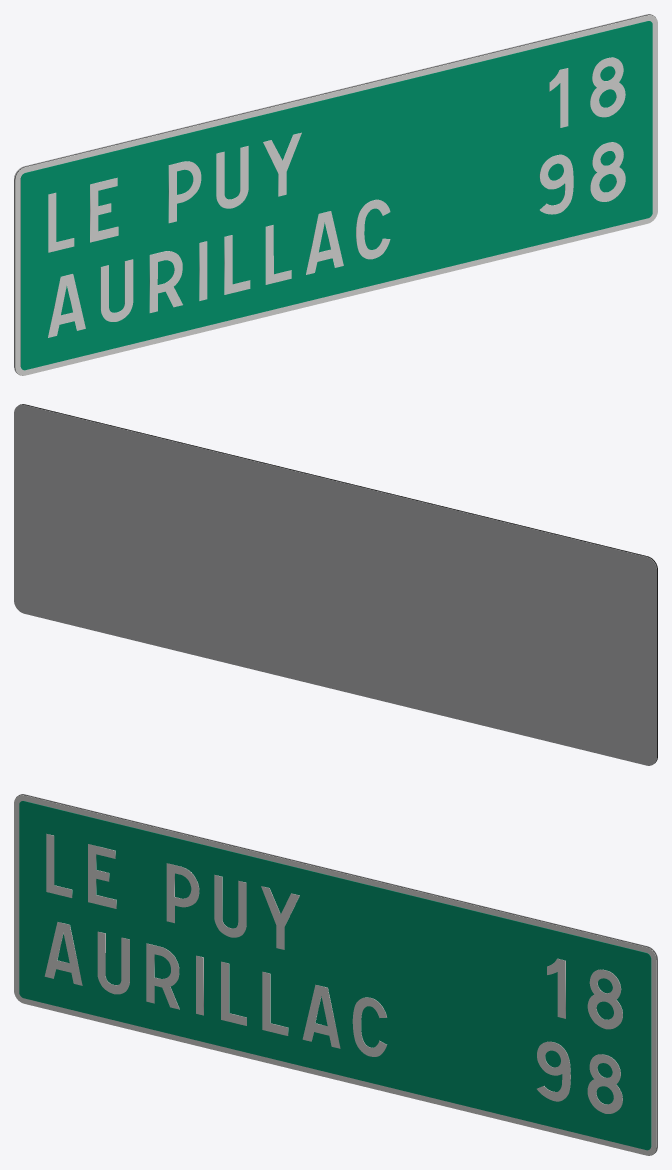
The picture shows the model from 3 angles, top to bottom: view 1: azimuth 30°, elevation 25°; view 2: azimuth 150°, elevation 25°; view 3: azimuth 330°, elevation 25°; orthographic projection.
Visible parts, largest first — view 1: D61_p02, D61_p01, D61_p06, D61_p03, D61_p05, D61_p04, D61_dos, D61_p00; view 2: D61_dos, D61_p00; view 3: D61_p02, D61_p01, D61_p06, D61_p03, D61_p05, D61_p04, D61_dos, D61_p00.
Boxes of the visible parts, x1,y1,x2,y2 form: D61_p02: [20, 21, 652, 370]; D61_p01: [15, 15, 657, 375]; D61_p06: [48, 199, 390, 337]; D61_p03: [48, 132, 301, 252]; D61_p05: [539, 142, 625, 214]; D61_p04: [549, 57, 625, 127]; D61_dos: [14, 14, 651, 372]; D61_p00: [14, 14, 655, 374]; D61_dos: [14, 404, 656, 765]; D61_p00: [20, 404, 657, 762]; D61_p02: [19, 801, 651, 1150]; D61_p01: [14, 795, 656, 1155]; D61_p06: [44, 922, 386, 1056]; D61_p03: [46, 833, 299, 949]; D61_p05: [537, 1041, 622, 1113]; D61_p04: [547, 958, 622, 1029]; D61_dos: [20, 794, 657, 1152]; D61_p00: [16, 794, 657, 1154].
Size of the model in its own units: 0.7 by 0.2171 by 0.0043.
